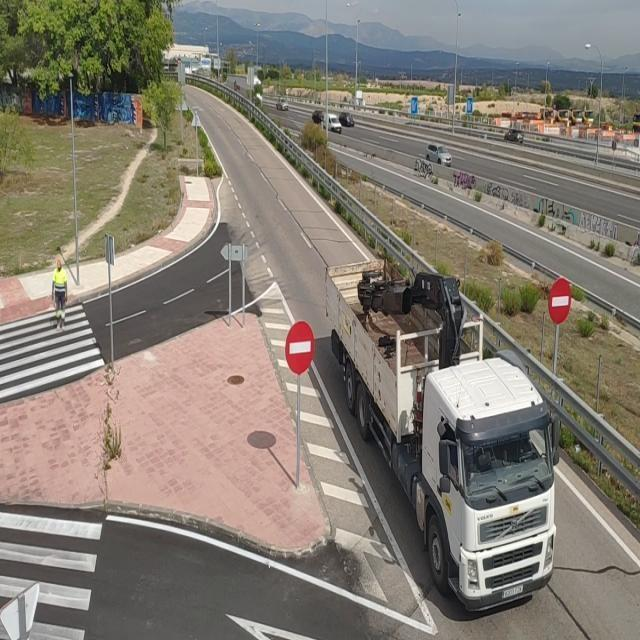Car: (426, 142, 452, 166)
Truck: (315, 248, 567, 621)
Van: (324, 113, 342, 134)
